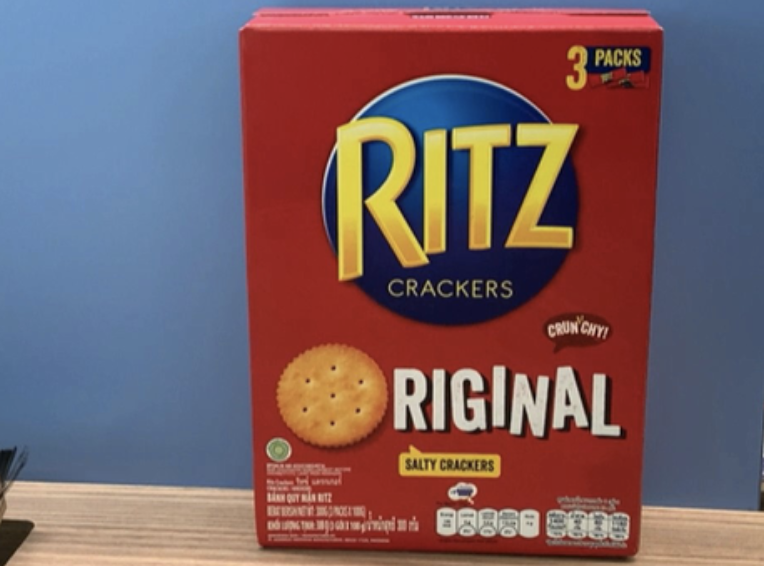crackers_300g-399g: (261, 41, 642, 545)
